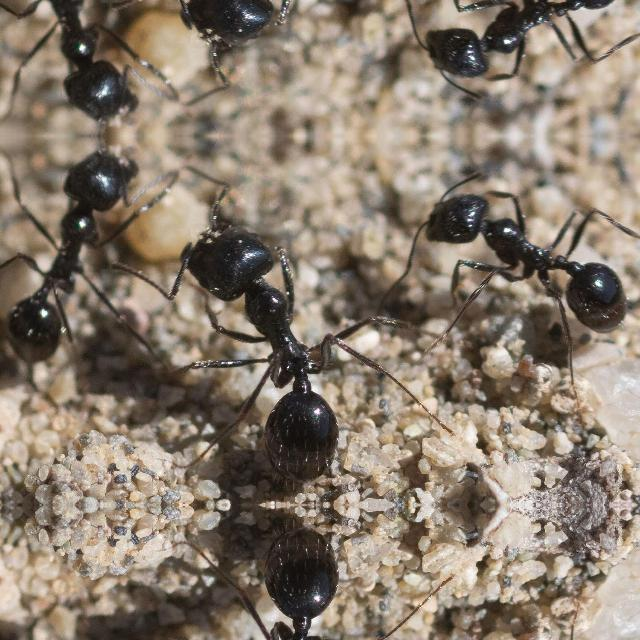Messor: (172, 213, 360, 483), (408, 160, 632, 344), (0, 134, 144, 395), (408, 0, 631, 109), (172, 526, 360, 640), (0, 0, 144, 135), (172, 0, 360, 57)
